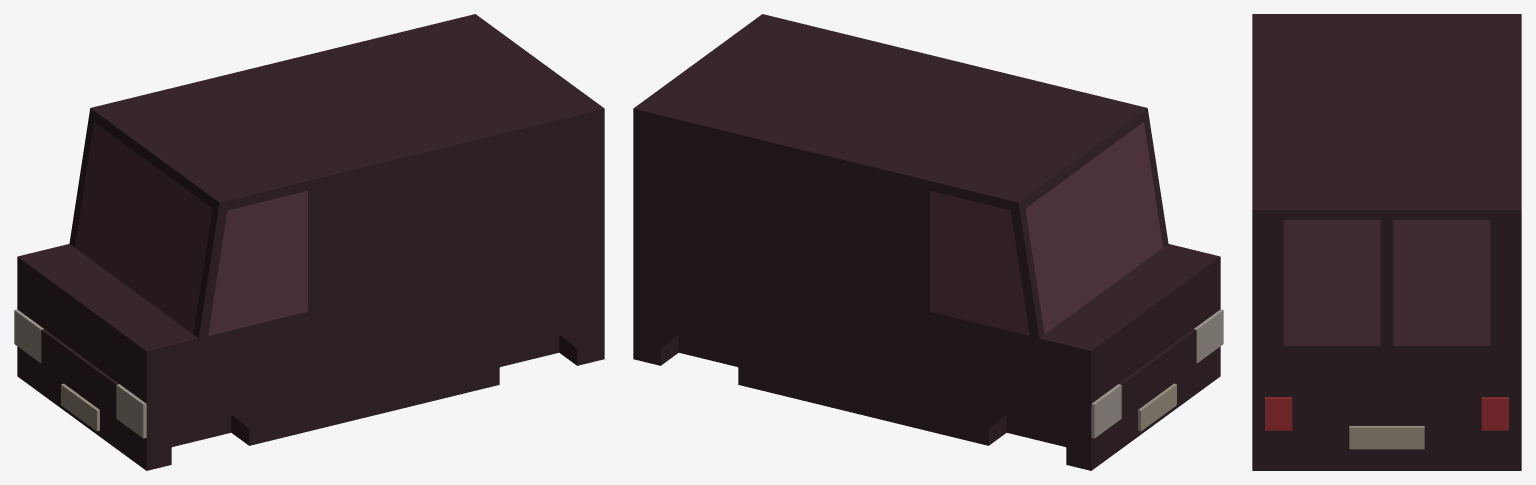
File: Van_Black.fbx
3 renders of one model, left to right at view 1: azimuth 30°, elevation 25°; view 2: azimuth 150°, elevation 25°; view 3: azimuth 270°, elevation 25°, orthographic. The views are drawn at different scales.
Parts seen in each view (by area): view 1: Van_Black, Van_Lights; view 2: Van_Black, Van_Lights; view 3: Van_Black, Van_Lights.
Part boxes in pixels (left/top/right/bottom): Van_Black: left=17, top=14, right=604, bottom=470; Van_Lights: left=14, top=309, right=146, bottom=438; Van_Black: left=633, top=14, right=1220, bottom=470; Van_Lights: left=1091, top=309, right=1223, bottom=438; Van_Black: left=1252, top=14, right=1521, bottom=470; Van_Lights: left=1265, top=397, right=1508, bottom=430.
Bounding box in the file's own units: 4.46 × 2.3 × 2.15.
